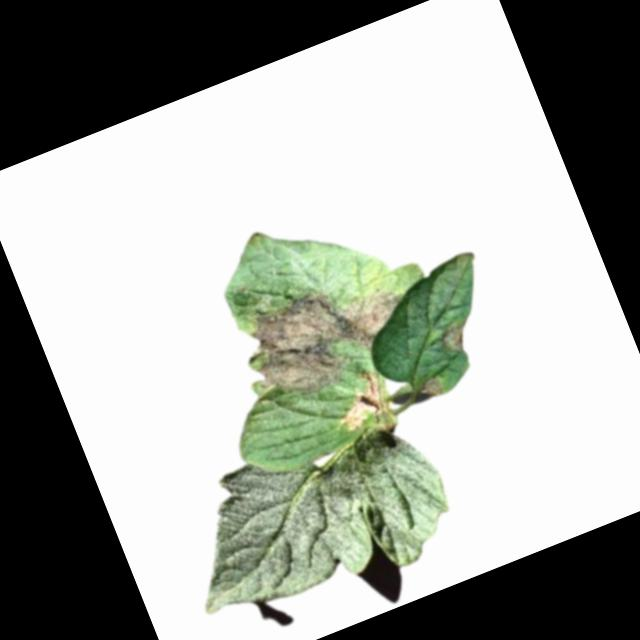Late_blight: (223, 256, 425, 413), (324, 365, 393, 435), (434, 315, 475, 356), (414, 374, 445, 401)
